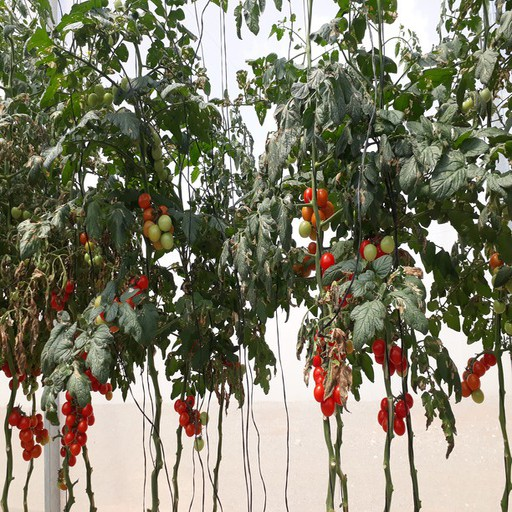dry leaves: (2, 258, 47, 376), (319, 325, 359, 405)
green tomato bunch: (490, 253, 512, 340), (78, 232, 104, 264), (11, 204, 35, 221)
mixed tomato bunch: (321, 240, 396, 311), (137, 192, 175, 251), (300, 186, 334, 241)
red tomato bunch: (312, 326, 349, 418), (98, 276, 152, 326), (60, 389, 95, 466), (9, 407, 47, 462), (459, 351, 498, 397), (378, 393, 415, 436), (373, 339, 409, 380), (174, 395, 205, 437), (48, 279, 75, 311)
